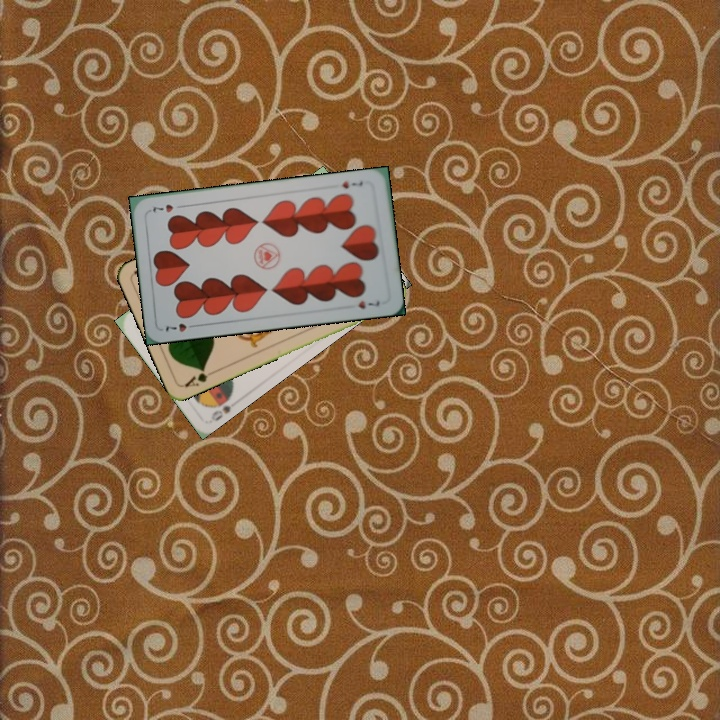GA: (180, 364, 219, 390)
H7: (162, 319, 200, 335), (338, 177, 365, 191)
SO: (207, 388, 236, 424)
